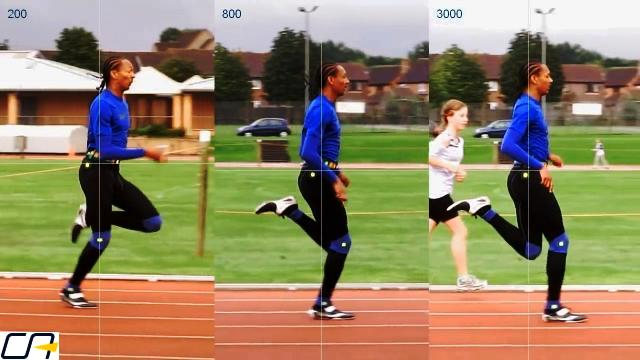berlari: (442, 40, 598, 330), (246, 52, 372, 329), (62, 48, 164, 314)
